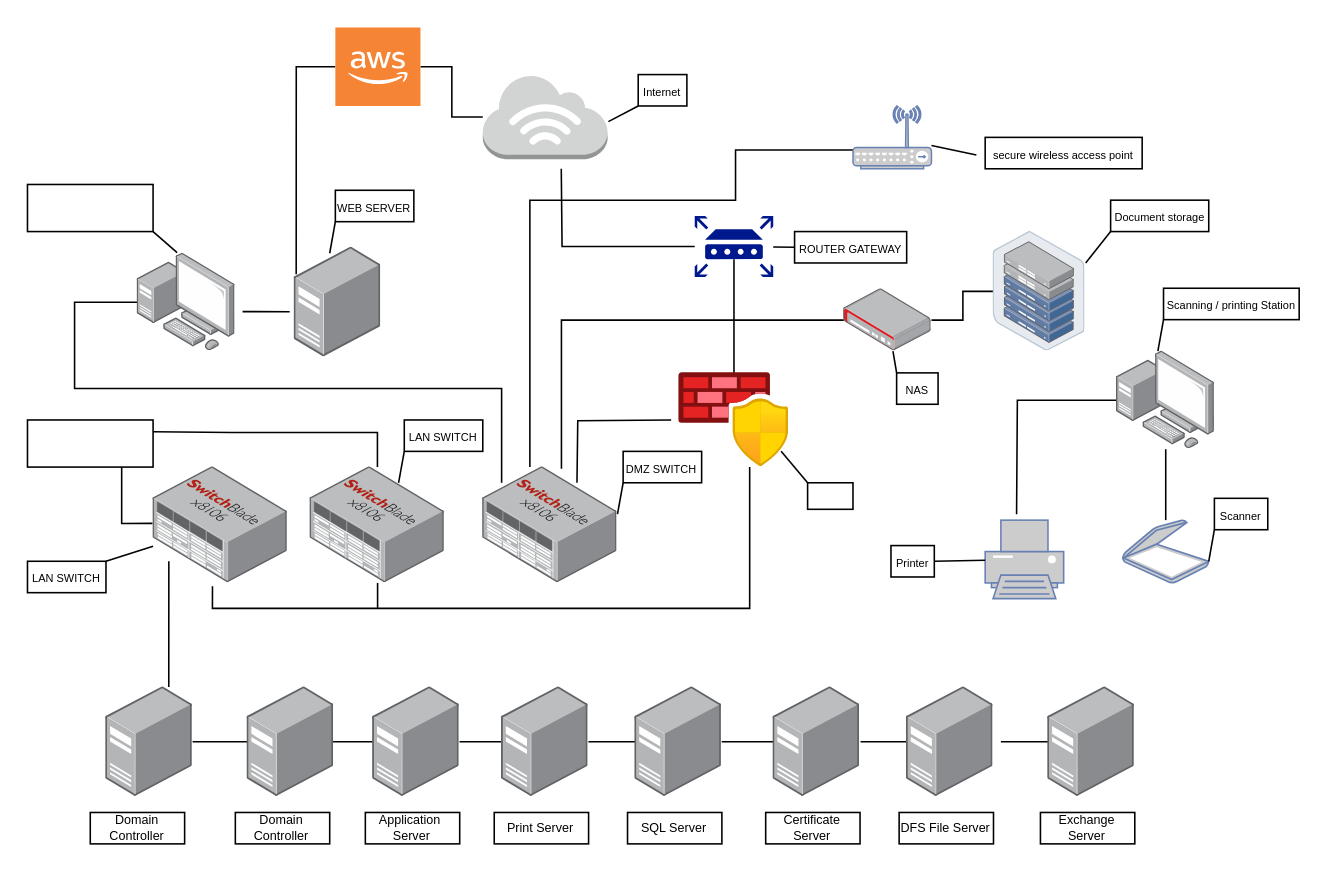
The diagram is 1327 pixels wide and 871 high, and some of its shapes have lost their labels. Each missing label, with the box of its shape:
E-COMMERCE WEBSITE: (26, 183, 153, 232)
Firewall: (806, 481, 853, 509)
Trusted Zone: (26, 418, 153, 467)
